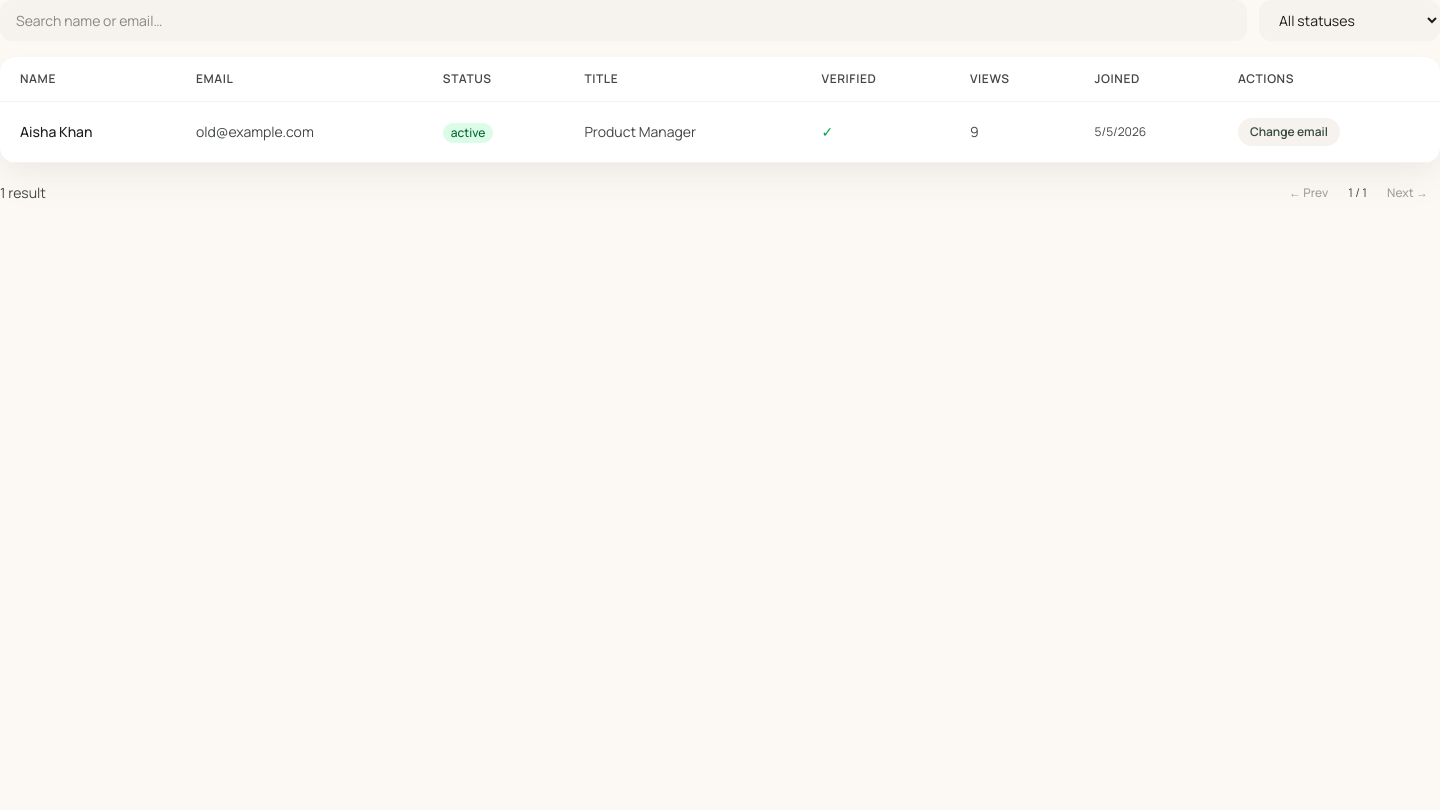
Test: UsersTable › updates a user email from the admin table
Expected: the text "Aisha Khan" is shown, [0, 102, 176, 162]
Click the button "Change email" at (1289, 132), box [1238, 118, 1340, 146]
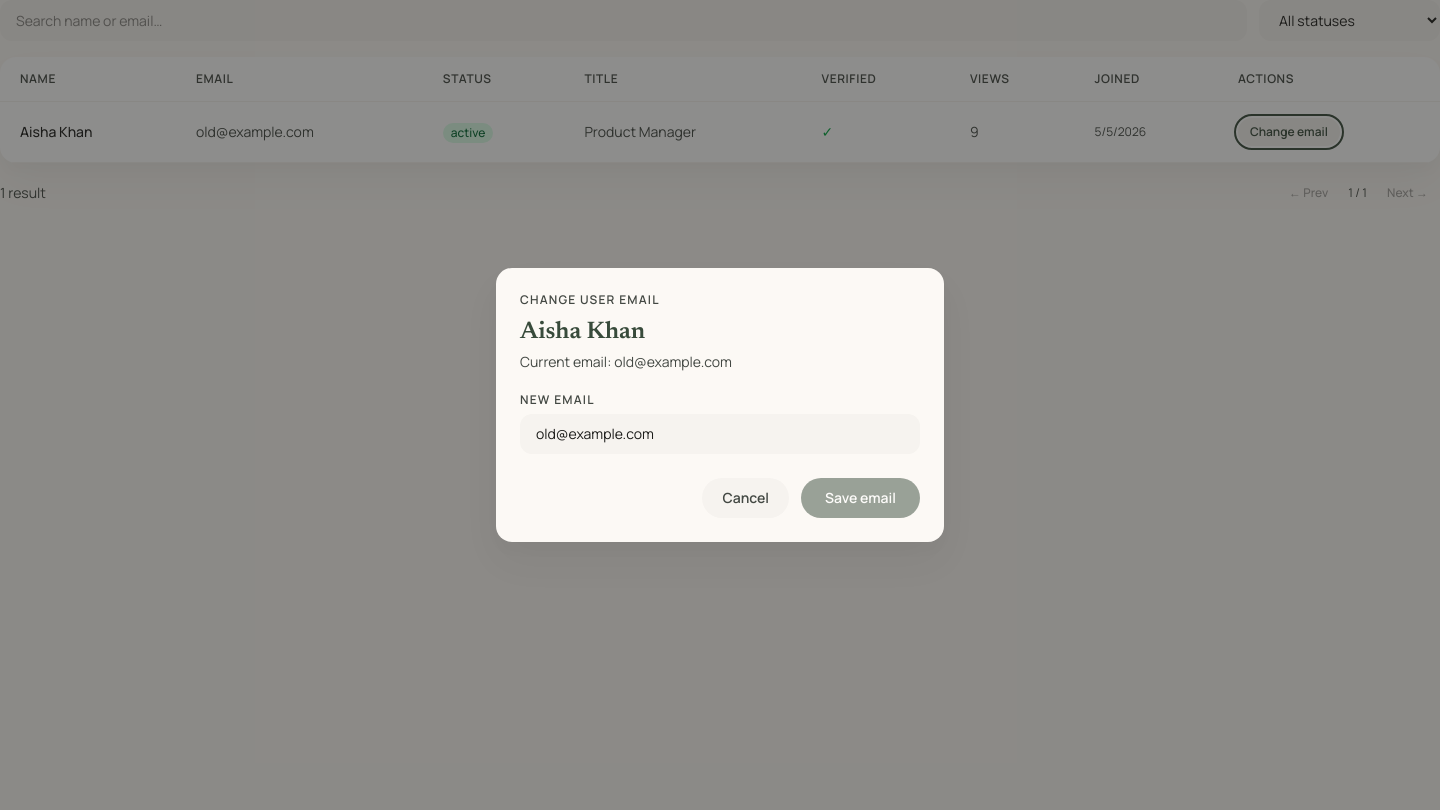
Replace the text in the field labelled "New email" with "new@example.com" at (720, 434), box [520, 414, 920, 454]
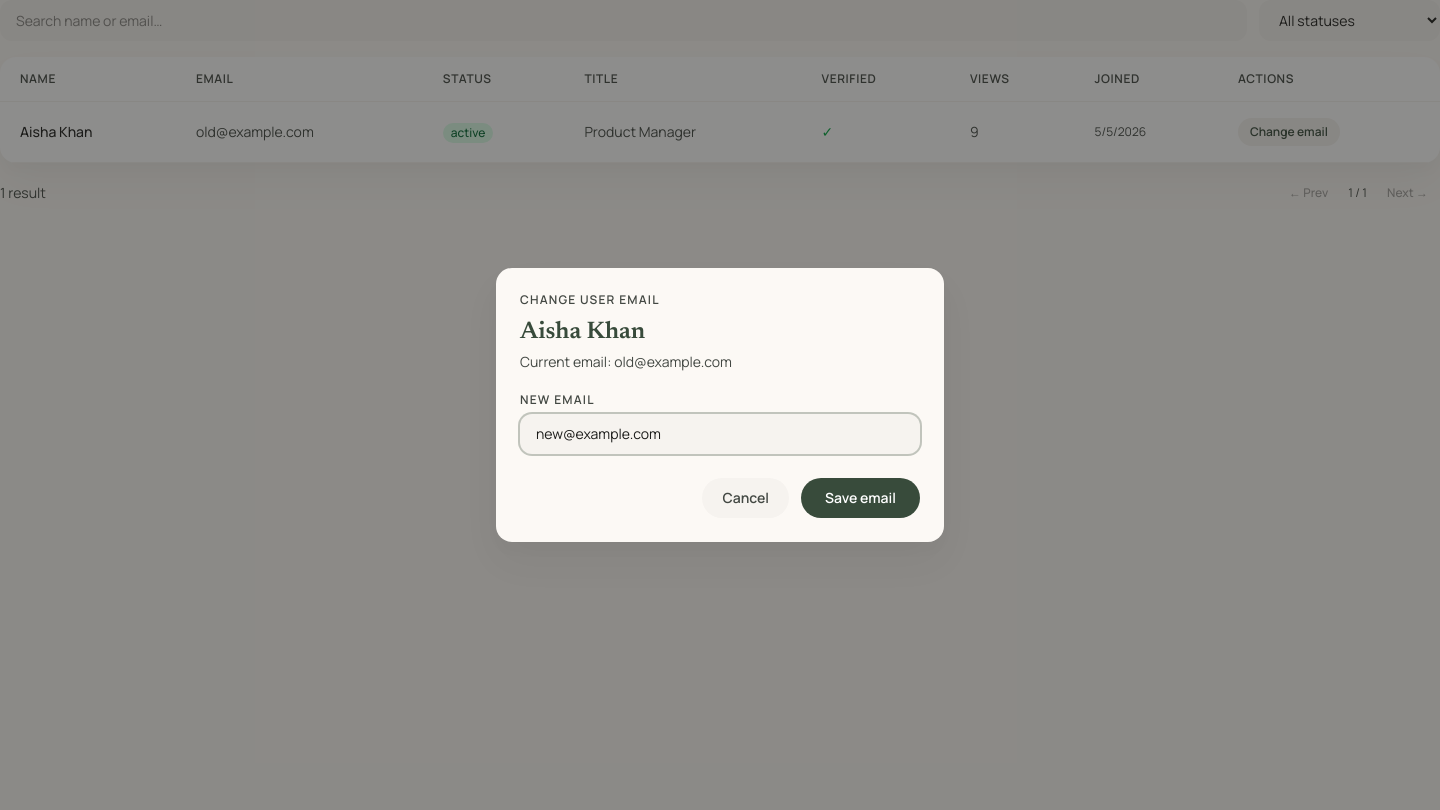
Click the button "Save email" at (860, 498), box [801, 478, 920, 518]
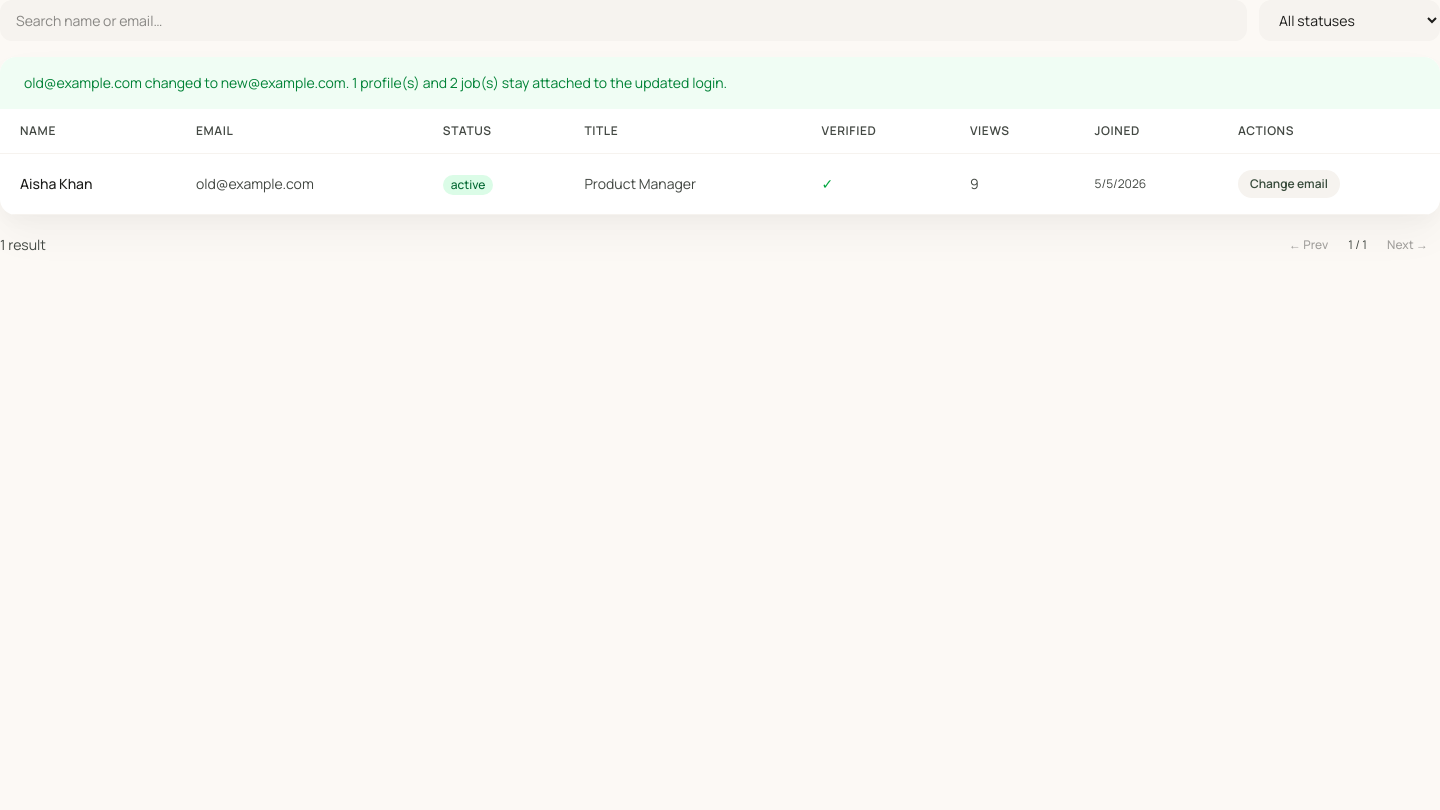
Expected: the text "old@example.com changed to new@example.com" is shown, [24, 73, 727, 92]
